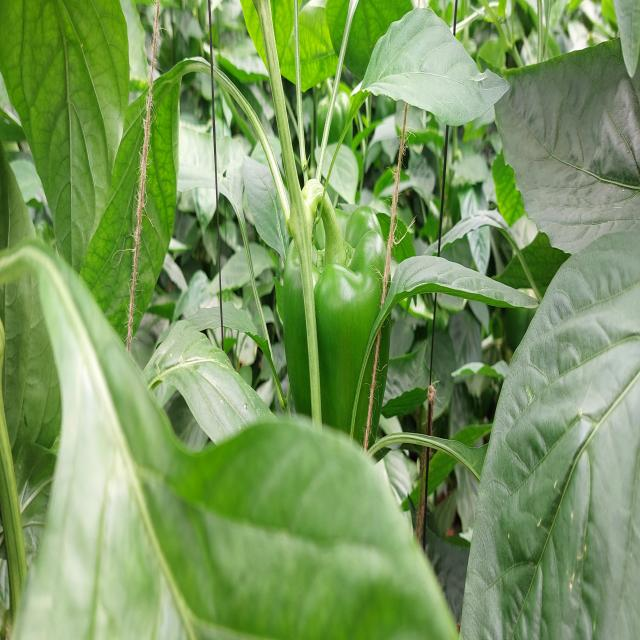Green--Not-ready-to-harvest: (277, 162, 399, 480)
